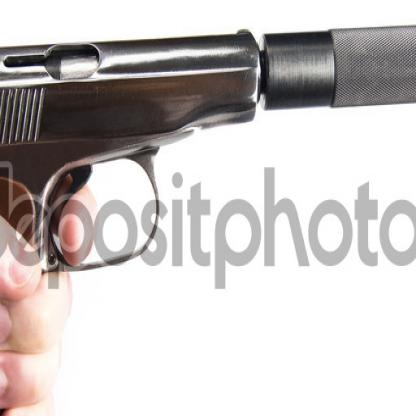gun: (0, 3, 415, 414)
